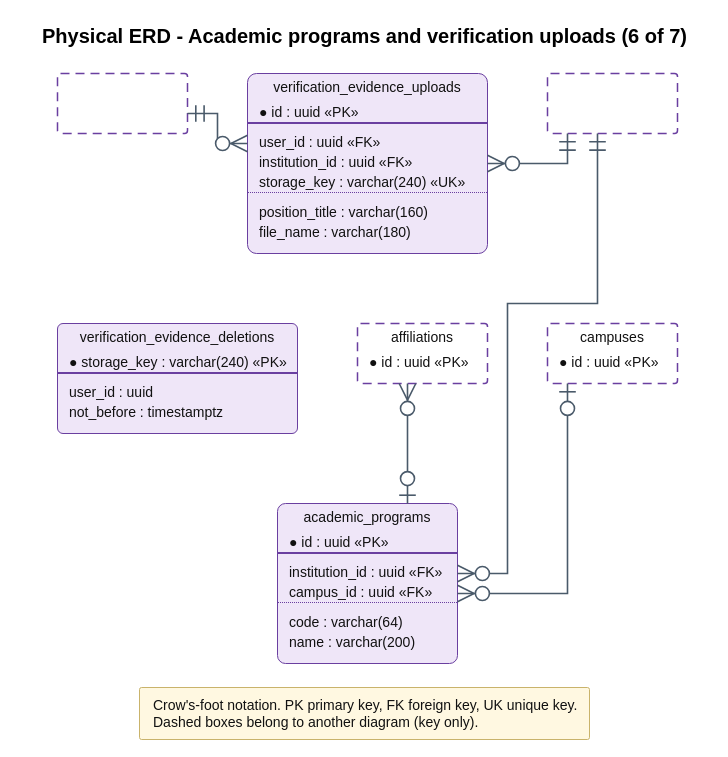
The diagram is 728 pixels wide and 757 high, and some of its shapes have lost their labels. The shapes that lost their labels are listed below. From the top down, each one's centre as x and y in pixels, then its label:
point 122,103: users ● id : uuid «PK»
point 612,103: institutions ● id : uuid «PK»
